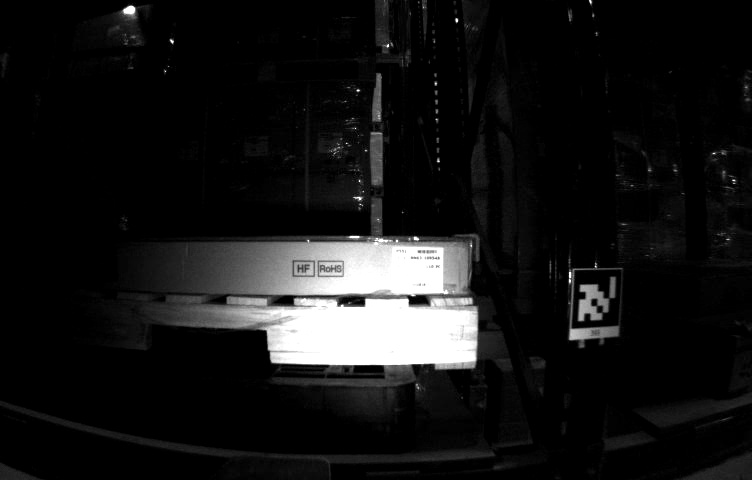True Barcode: (390, 246, 442, 292)
